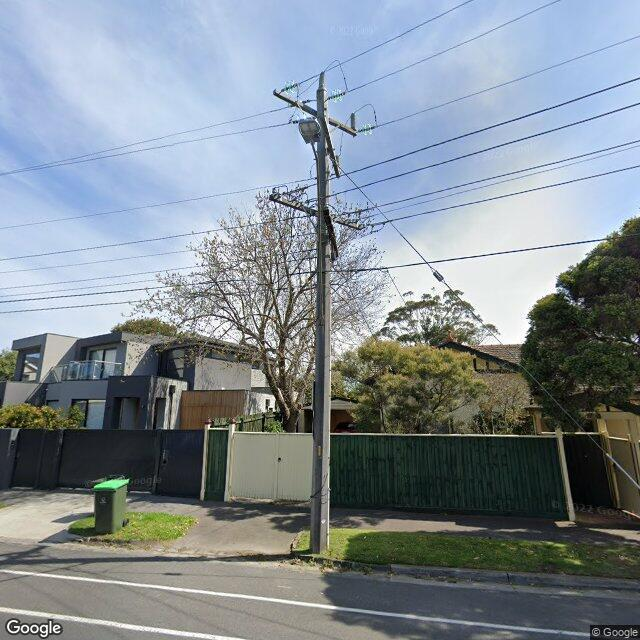HV-transmission: (274, 72, 373, 138)
concrete-pole: (309, 89, 332, 553)
crossarm: (269, 185, 378, 231), (273, 89, 357, 137), (322, 117, 342, 178), (323, 210, 340, 258)
streetlight: (297, 118, 321, 163)
